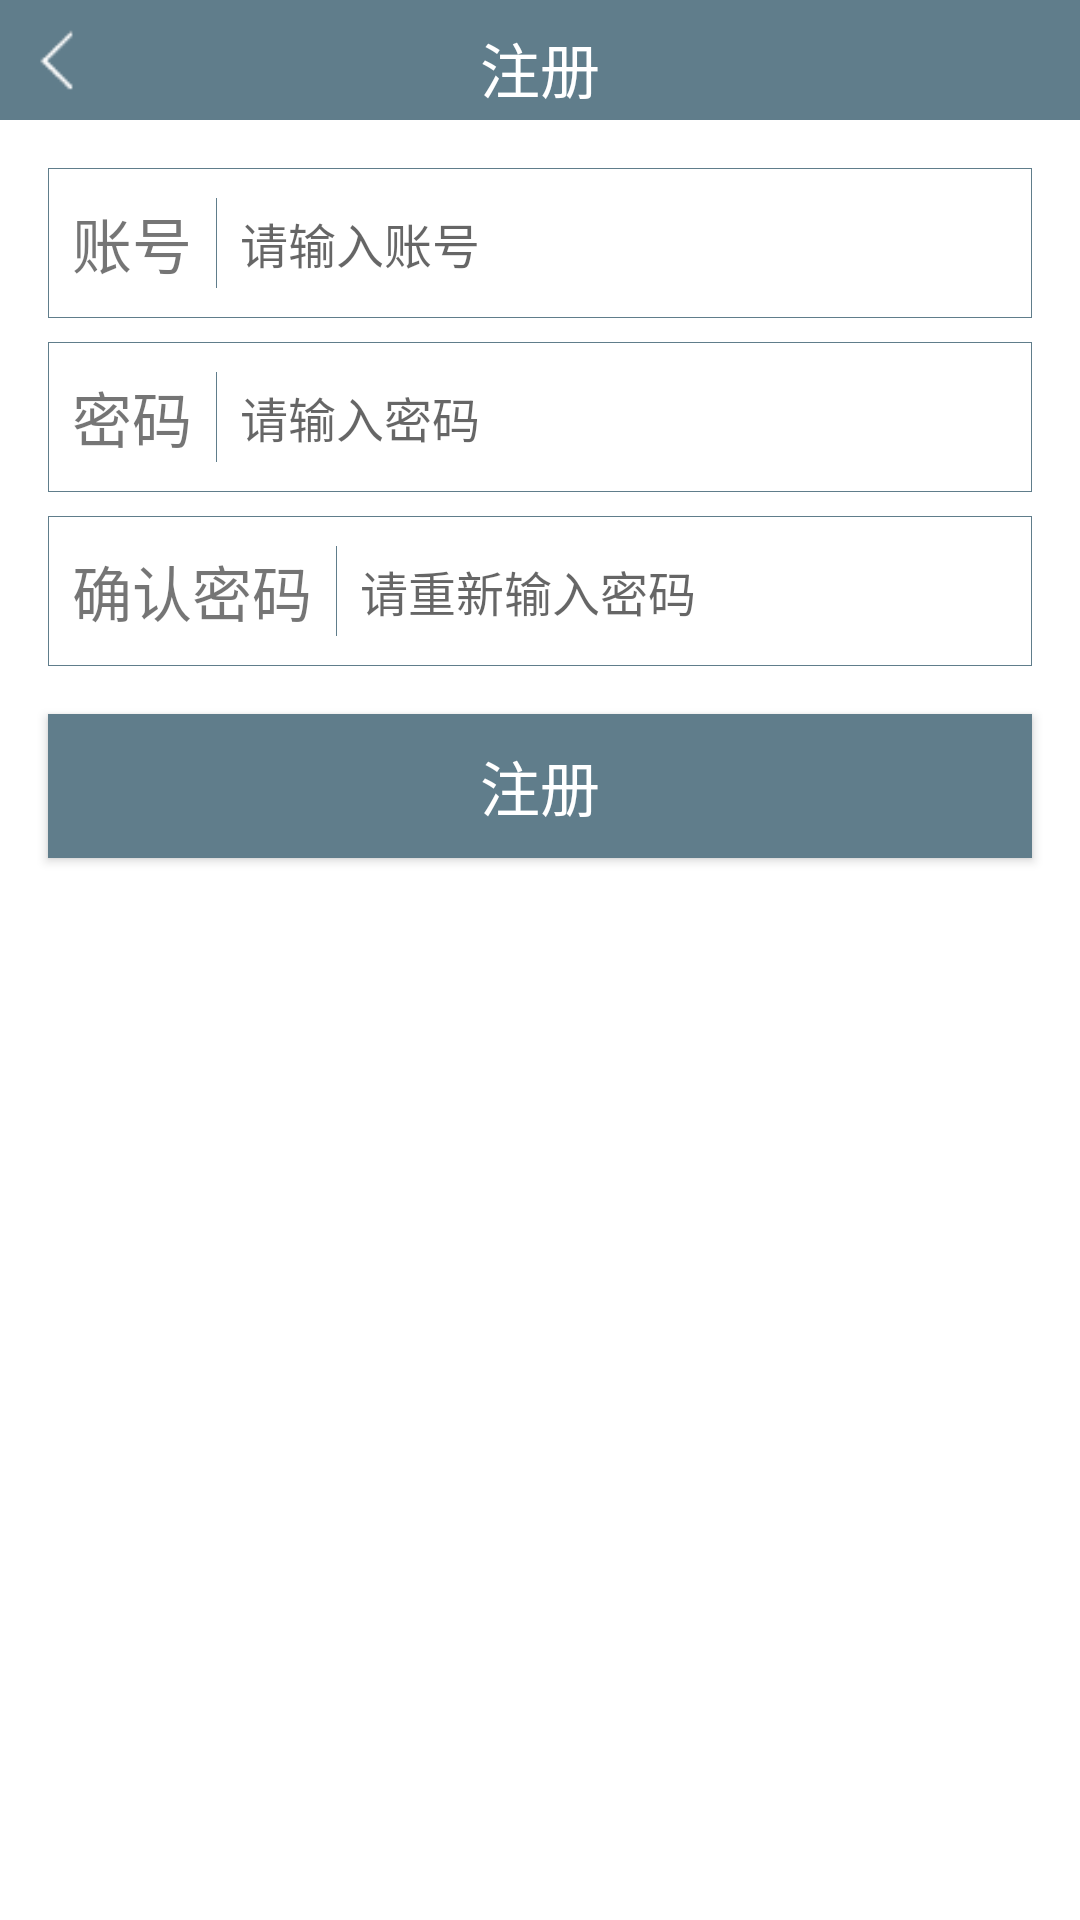

Screen size 1080w x 1920h. Icon name, then its center in pixels as [x,y]:
back: [56,60]
